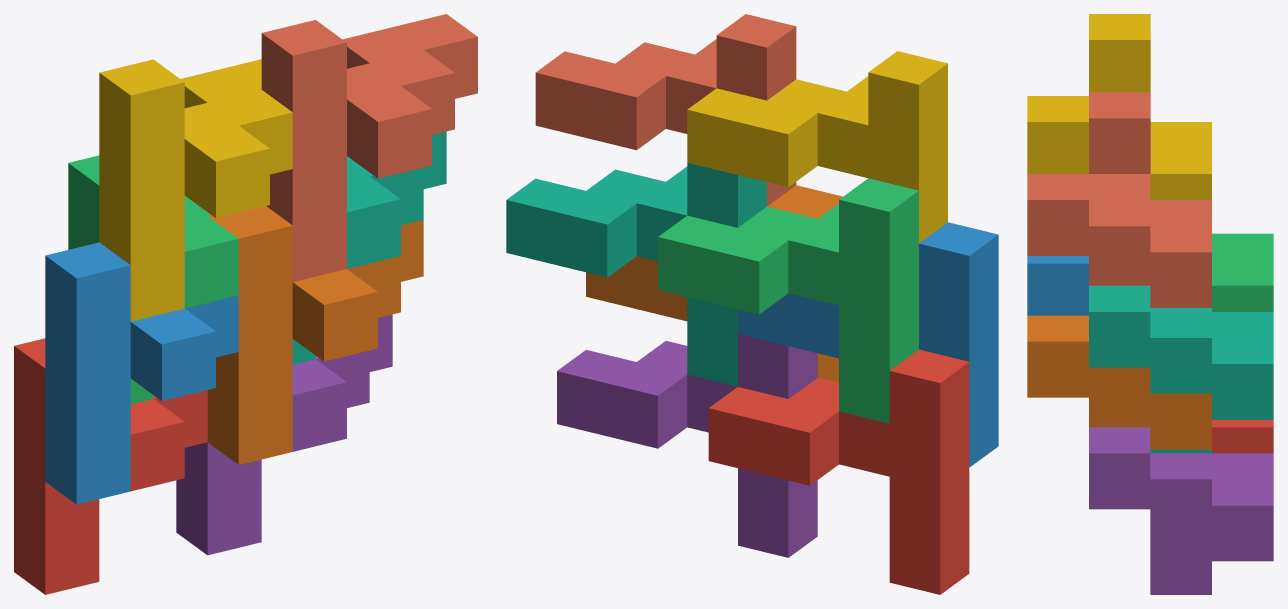
File: tiling.obj
3 views of the same model, side by side, from view 1: azimuth 30°, elevation 25°; view 2: azimuth 150°, elevation 25°; view 3: azimuth 270°, elevation 25° (orthographic). The views are drawn at different scales.
Parts seen in each view (by area): view 1: copy_1_domain_8, copy_1_domain_4, copy_1_domain_2, copy_1_domain_6, copy_1_domain_1, copy_1_domain_5, copy_1_domain_3, copy_1_domain_7; view 2: copy_1_domain_1, copy_1_domain_3, copy_1_domain_4, copy_1_domain_5, copy_1_domain_7, copy_1_domain_8, copy_1_domain_2, copy_1_domain_6; view 3: copy_1_domain_8, copy_1_domain_5, copy_1_domain_7, copy_1_domain_4, copy_1_domain_6, copy_1_domain_3, copy_1_domain_2, copy_1_domain_1.
Boxes of the visible parts, <box> form: copy_1_domain_8: <box>261,14,477,281</box>; copy_1_domain_4: <box>99,59,292,321</box>; copy_1_domain_2: <box>45,242,238,504</box>; copy_1_domain_6: <box>207,206,423,464</box>; copy_1_domain_1: <box>14,338,207,594</box>; copy_1_domain_5: <box>176,314,392,555</box>; copy_1_domain_3: <box>68,155,238,404</box>; copy_1_domain_7: <box>292,131,446,364</box>; copy_1_domain_1: <box>708,349,969,594</box>; copy_1_domain_3: <box>658,178,918,423</box>; copy_1_domain_4: <box>687,51,947,242</box>; copy_1_domain_5: <box>557,334,817,557</box>; copy_1_domain_7: <box>506,162,766,386</box>; copy_1_domain_8: <box>535,14,796,206</box>; copy_1_domain_2: <box>738,222,998,467</box>; copy_1_domain_6: <box>586,185,842,382</box>; copy_1_domain_8: <box>1027,92,1211,307</box>; copy_1_domain_5: <box>1089,427,1273,594</box>; copy_1_domain_7: <box>1089,285,1273,453</box>; copy_1_domain_4: <box>1027,14,1211,199</box>; copy_1_domain_6: <box>1027,315,1211,449</box>; copy_1_domain_3: <box>1212,233,1273,311</box>; copy_1_domain_2: <box>1027,256,1088,315</box>; copy_1_domain_1: <box>1212,420,1273,453</box>.
Bounding box in the file's own units: 8 × 9 × 4.
